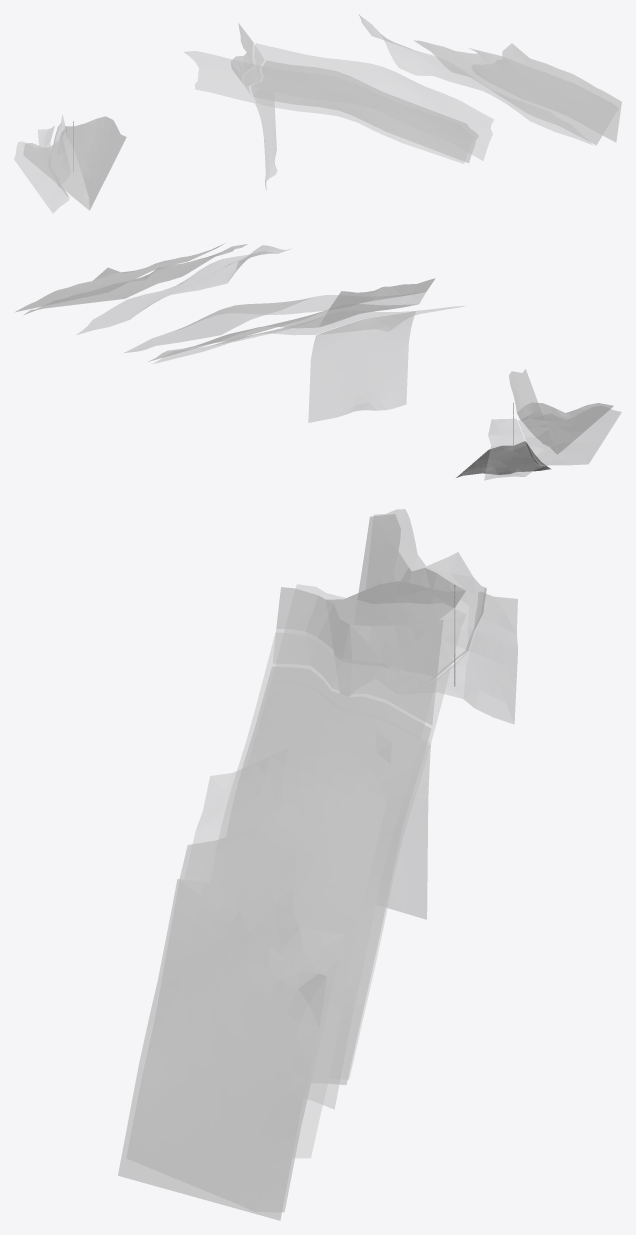
Rendered from suidao(3)_24.glb.
3 renders of one model, top to bottom at view 1: azimuth 30°, elevation 25°; view 2: azimuth 150°, elevation 25°; view 3: azimuth 270°, elevation 25°, orthographic. The views are drawn at different scales.
Visible parts, largest first — view 1: Layer:P2Q F5 YOU 2, Layer:P2Q F5 YOU 1, Layer:p3c 4, Layer:T1J1 5, Layer:F6 11, Layer:p3l 4, Layer:S2H ZUO 3, Layer:P1L F5 YOU 3, Layer:p3c 6, Layer:p3l 6, Layer:p2q 1 1, Layer:S2H ZUO 1 (+7 smaller); view 2: Layer:S2H F5 ZUO 9, Layer:F4 ZUO 4, Layer:P2Q F5 YOU 2, Layer:p3l 6, Layer:p2q 1 1, Layer:F4 YOU 5, Layer:p3l 4, Layer:p3c 6, Layer:S2H F5 ZUO 8, Layer:P2Q F5 YOU 1, Layer:p3c 4, Layer:T1J1 5 (+9 smaller); view 3: Layer:p3c 4, Layer:T1J1 5, Layer:P2Q F5 YOU 2, Layer:p3l 6, Layer:P2Q F5 YOU 1, Layer:p3l 4, Layer:p3c 6, Layer:detach_F5 7 1, Layer:P2M F5 ZUO 3, Layer:F4 YOU 5, Layer:P2Q F5 ZUO 6, Layer:P1L F5 ZUO 6 (+8 smaller).
Part boxes in pixels (left/top/right/bottom): Layer:P2Q F5 YOU 2: left=244, top=43, right=493, bottom=160; Layer:P2Q F5 YOU 1: left=251, top=61, right=478, bottom=162; Layer:p3c 4: left=471, top=43, right=621, bottom=142; Layer:T1J1 5: left=472, top=43, right=621, bottom=141; Layer:F6 11: left=65, top=116, right=126, bottom=209; Layer:p3l 4: left=414, top=40, right=602, bottom=145; Layer:S2H ZUO 3: left=67, top=116, right=125, bottom=208; Layer:P1L F5 YOU 3: left=251, top=86, right=471, bottom=162; Layer:p3c 6: left=414, top=40, right=601, bottom=144; Layer:p3l 6: left=359, top=14, right=593, bottom=145; Layer:p2q 1 1: left=23, top=126, right=89, bottom=210; Layer:S2H ZUO 1: left=23, top=127, right=89, bottom=209; Layer:S2H F5 ZUO 9: left=308, top=311, right=415, bottom=422; Layer:F4 ZUO 4: left=518, top=405, right=621, bottom=466; Layer:P2Q F5 YOU 2: left=124, top=295, right=338, bottom=352; Layer:p3l 6: left=76, top=245, right=291, bottom=334; Layer:p2q 1 1: left=517, top=402, right=613, bottom=454; Layer:F4 YOU 5: left=484, top=418, right=541, bottom=480; Layer:p3l 4: left=24, top=244, right=247, bottom=314; Layer:p3c 6: left=24, top=244, right=246, bottom=314; Layer:S2H F5 ZUO 8: left=456, top=441, right=551, bottom=477; Layer:P2Q F5 YOU 1: left=148, top=304, right=414, bottom=361; Layer:p3c 4: left=16, top=243, right=224, bottom=311; Layer:T1J1 5: left=16, top=244, right=222, bottom=311; Layer:p3c 4: left=118, top=879, right=326, bottom=1220; Layer:T1J1 5: left=118, top=879, right=326, bottom=1220; Layer:P2Q F5 YOU 2: left=219, top=632, right=435, bottom=1109; Layer:p3l 6: left=192, top=729, right=391, bottom=1158; Layer:P2Q F5 YOU 1: left=242, top=667, right=431, bottom=1084; Layer:p3l 4: left=179, top=803, right=345, bottom=1212; Layer:p3c 6: left=180, top=803, right=345, bottom=1211; Layer:detach_F5 7 1: left=276, top=587, right=443, bottom=677; Layer:P2M F5 ZUO 3: left=276, top=587, right=442, bottom=676; Layer:F4 YOU 5: left=435, top=592, right=517, bottom=724; Layer:P2Q F5 ZUO 6: left=273, top=629, right=436, bottom=724; Layer:P1L F5 ZUO 6: left=275, top=584, right=466, bottom=742.
Bounding box in the file's own units: 4591 × 1000 × 1361.
Materials: 23 (1 with a texture image).
